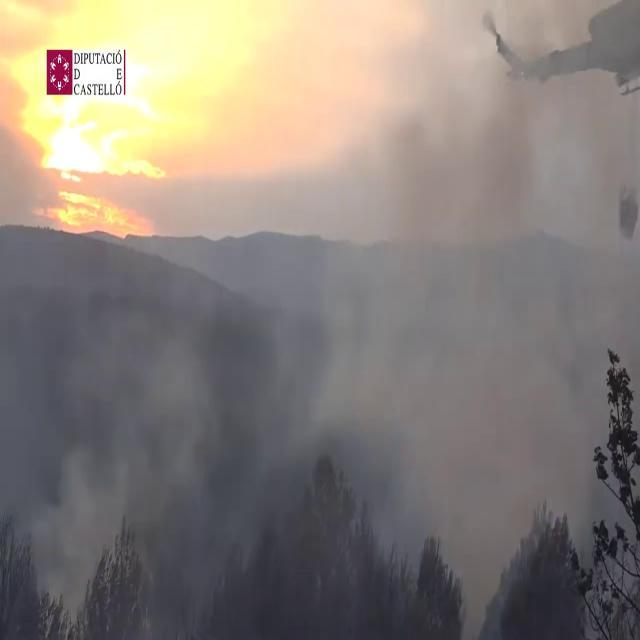Smoke: (5, 3, 638, 633)
